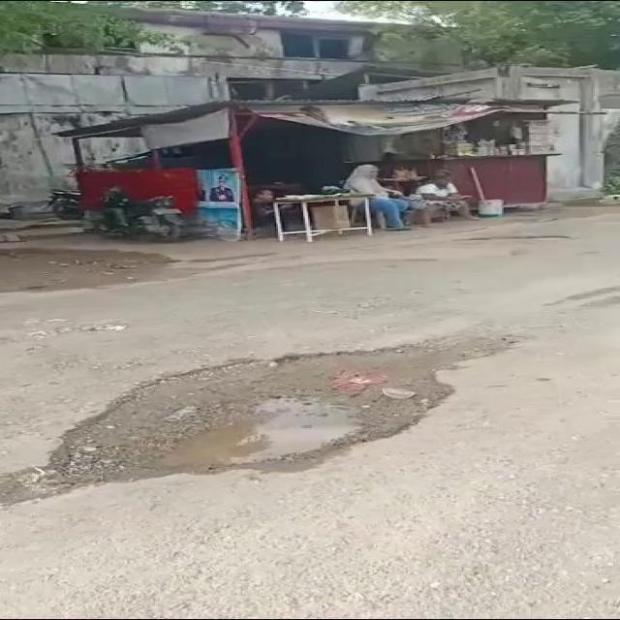lubang: (0, 335, 512, 505)
